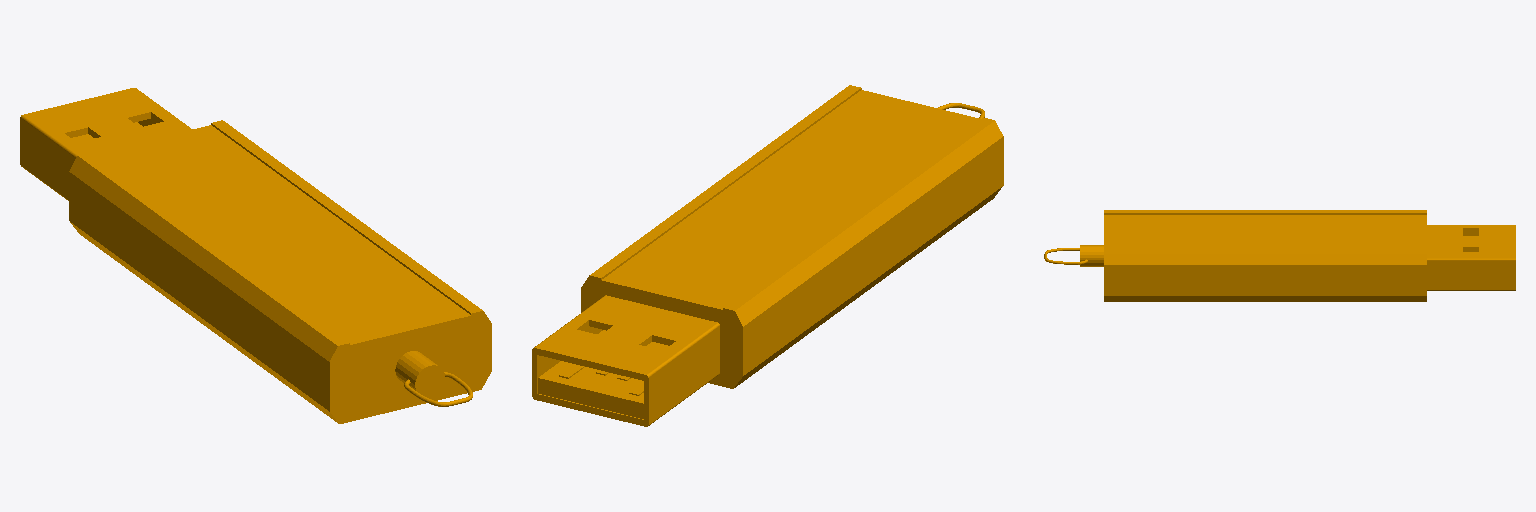
The robot description file, URDF, robot "partB_7":
<?xml version="1.0"?>
<robot name="partB_7">
  <link name="part_link">
    <visual>
      <geometry>
        <mesh filename="Shape_Data_Mesh/usb_cap/7/partB_new.obj" scale="1 1 1"/>
      </geometry>
    </visual>
    <collision>
      <geometry>
        <mesh filename="Shape_Data_Mesh/usb_cap/7/vhacd_partB_new.obj" scale="1 1 1"/>
      </geometry>
    </collision>
    <inertial>
      <mass value="1"/>
      <inertia ixx="0.001" ixy="0" ixz="0" iyy="0.001" iyz="0" izz="0.001"/>
    </inertial>
  </link>
</robot>

--- Facts derived from the render (not from the file) ---
Views: 3 orthographic renders of the robot side by side, from view 1: azimuth 30°, elevation 25°; view 2: azimuth 150°, elevation 25°; view 3: azimuth 270°, elevation 25°.
Model partB_7 with 1 links and 0 joints (none), rooted at part_link, posed all joints at 0.
Links seen in each view (by area): view 1: part_link; view 2: part_link; view 3: part_link.
Link boxes in pixels (bbox=[...]): part_link: bbox=[20, 88, 491, 423]; part_link: bbox=[532, 85, 1003, 426]; part_link: bbox=[1044, 210, 1515, 301].
Size in the robot's own frame: 0.6571 by 2.67 by 0.3054 metres.
Meshes: 1 distinct files referenced, 1 mesh visuals loaded (1 OBJ).